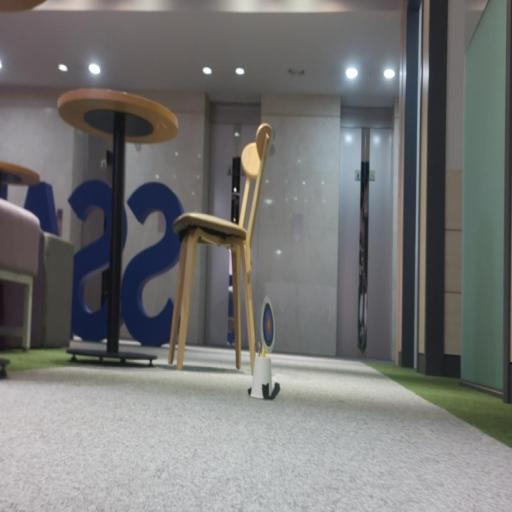target: (260, 296, 275, 351)
